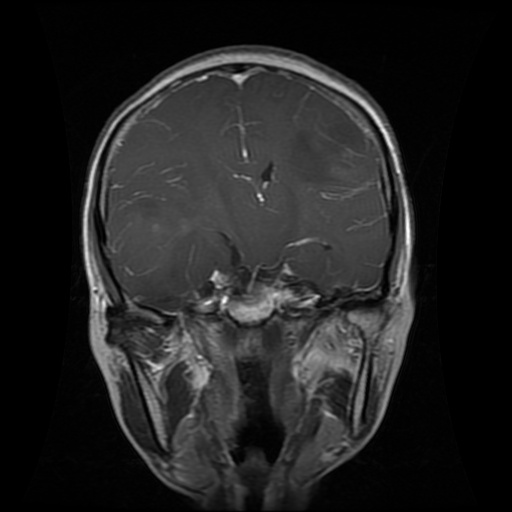glioma: (291, 130, 343, 184)
